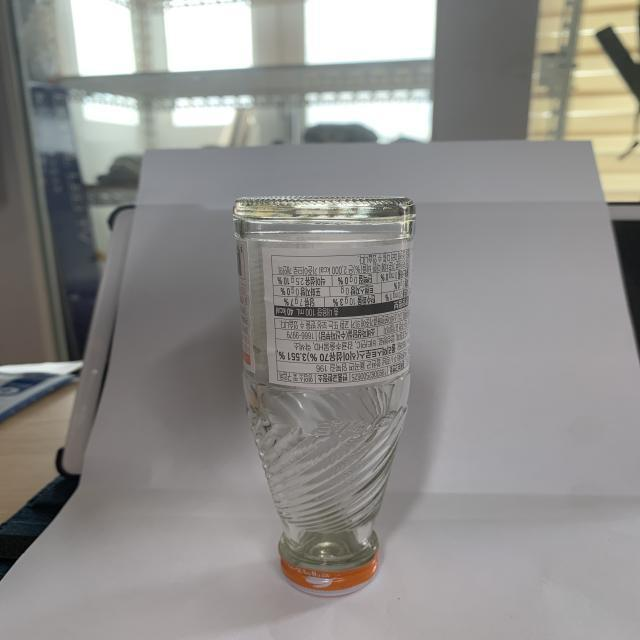Glass: (233, 198, 417, 598)
